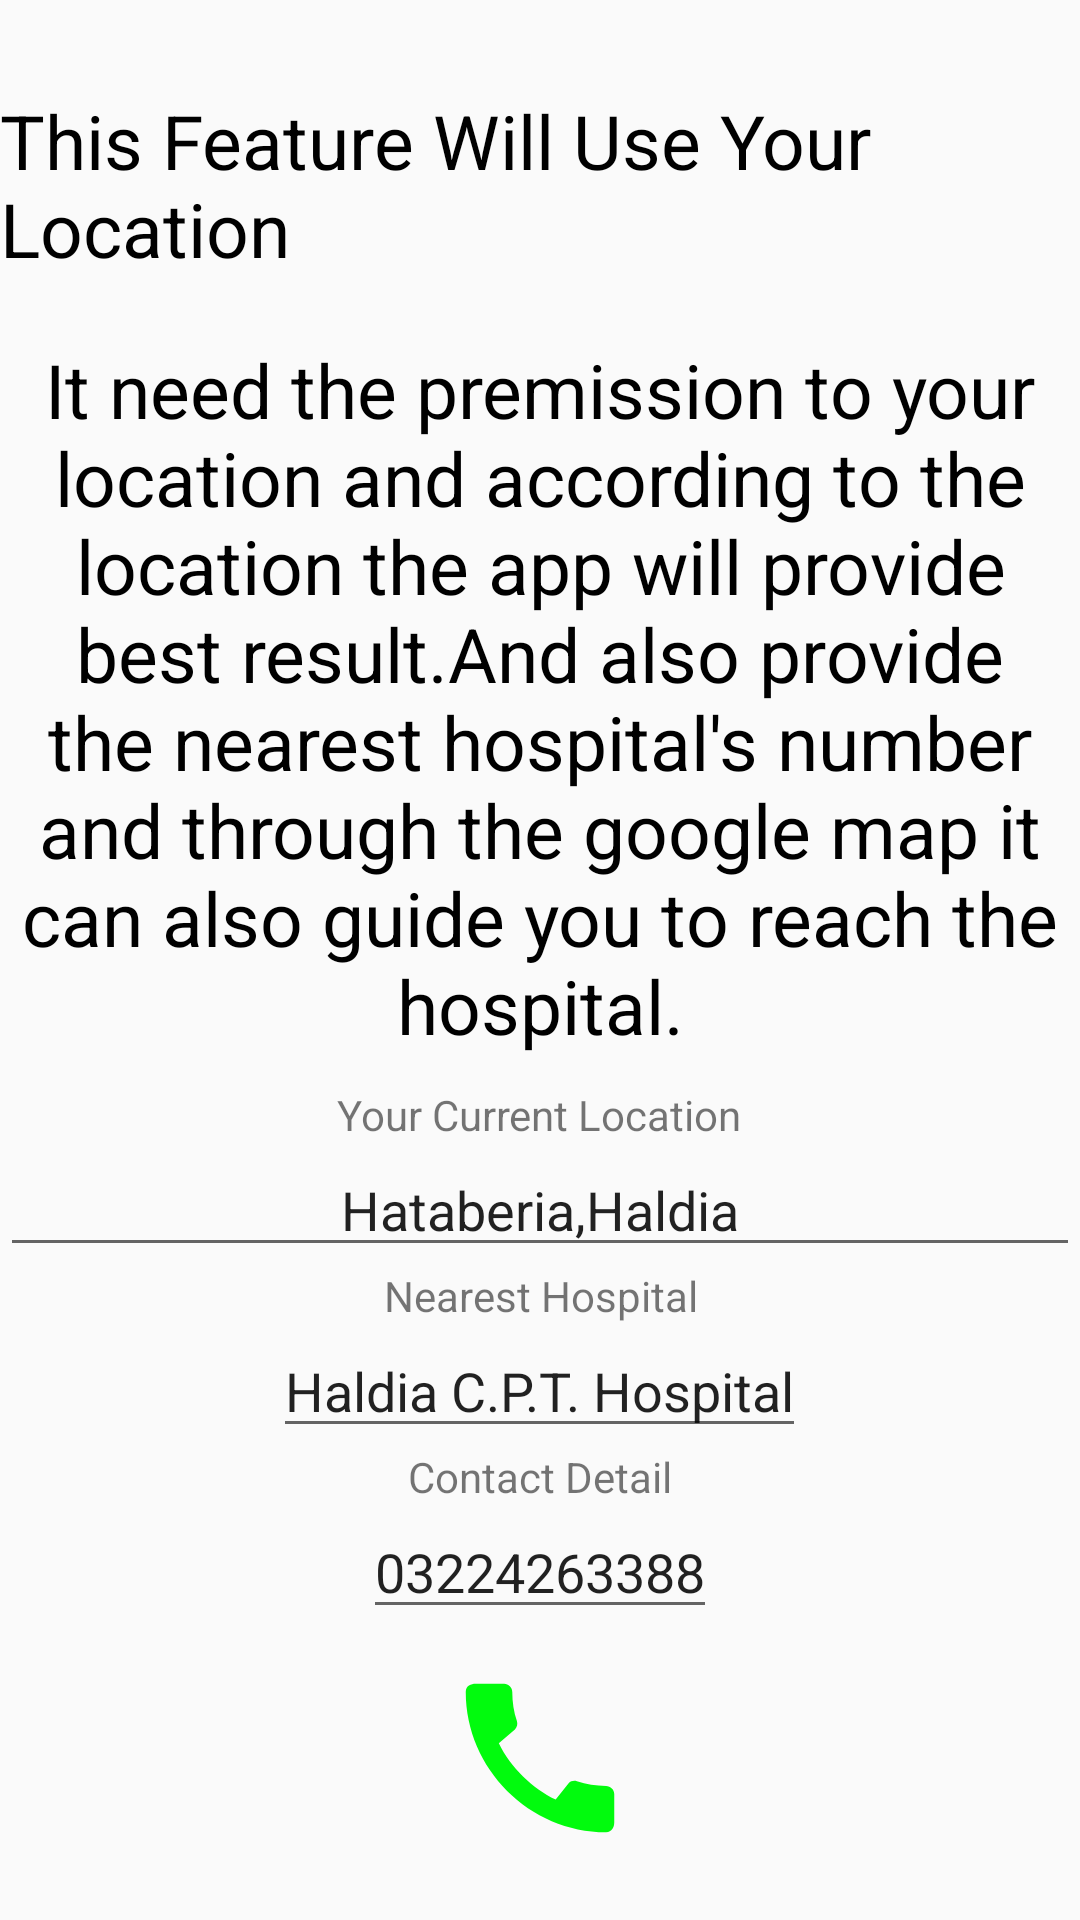

Icon bounding boxes for this 1080x1920 phone screenshot, format bbox=[x1, y1, x2, y2]:
call: bbox=[465, 1683, 615, 1833]
